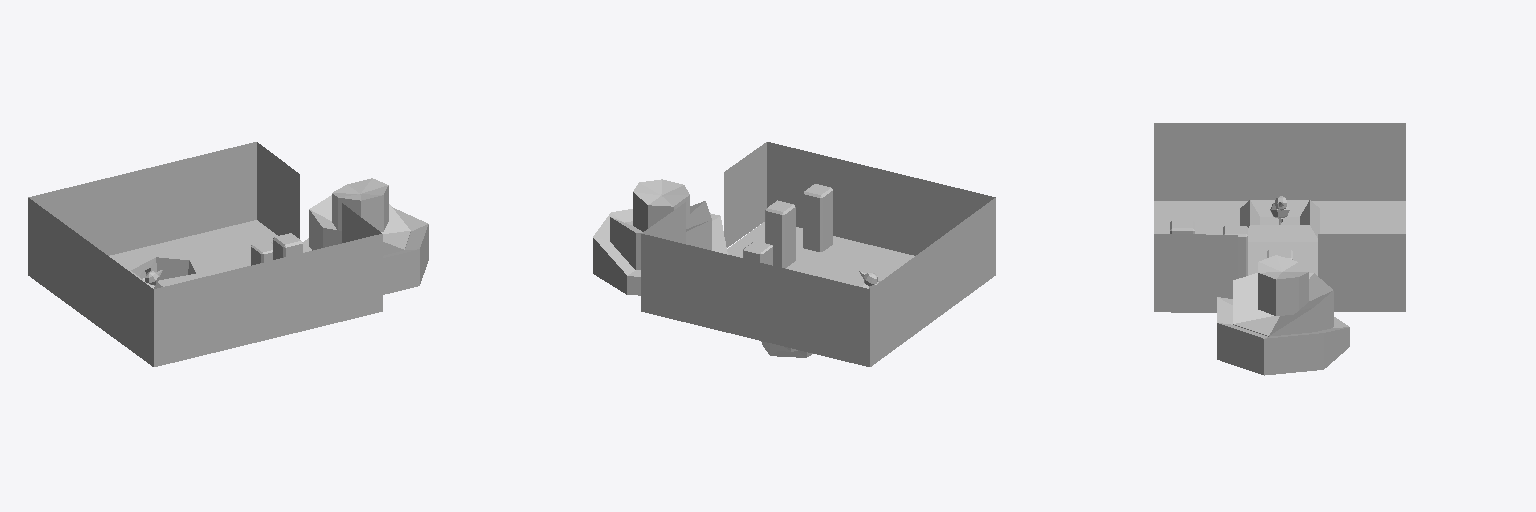
The model's file is floating_grove.obj.
3 renders of one model, left to right at view 1: azimuth 30°, elevation 25°; view 2: azimuth 150°, elevation 25°; view 3: azimuth 270°, elevation 25°, orthographic.
Parts seen in each view (by area): view 1: plane, cylinder, beveled_cuboid; view 2: plane, cylinder, beveled_cuboid; view 3: plane, cylinder, torus, beveled_cuboid.
Boxes of the visible parts, x1=… form: plane: x1=28, y1=142, x2=382, y2=366; cylinder: x1=303, y1=178, x2=428, y2=294; beveled_cuboid: x1=251, y1=233, x2=302, y2=265; plane: x1=641, y1=142, x2=995, y2=366; cylinder: x1=593, y1=179, x2=727, y2=295; beveled_cuboid: x1=743, y1=184, x2=832, y2=268; plane: x1=1154, y1=123, x2=1405, y2=312; cylinder: x1=1217, y1=255, x2=1349, y2=375; torus: x1=1240, y1=200, x2=1319, y2=241; beveled_cuboid: x1=1170, y1=220, x2=1292, y2=278.
Size of the model in its own units: 18.76 by 5.75 by 12.38.